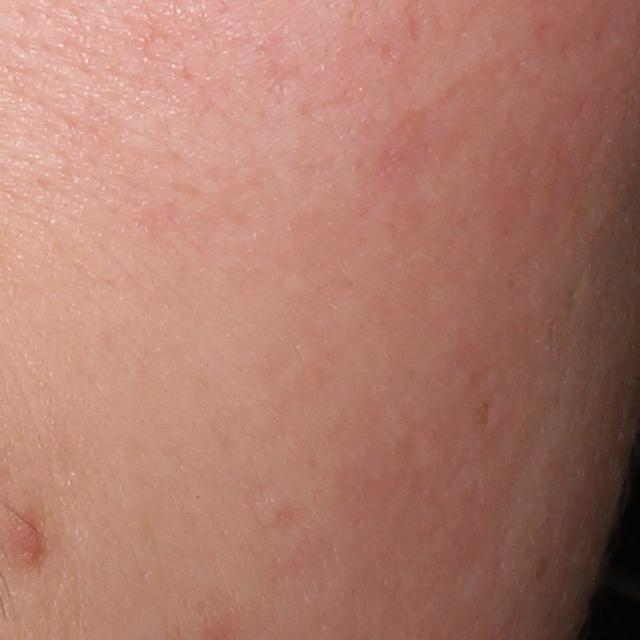papule: (8, 505, 48, 563)
